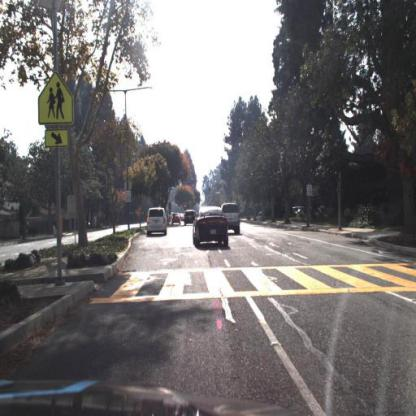car: (192, 206, 232, 247), (223, 200, 243, 234), (146, 208, 168, 236), (184, 208, 198, 230), (183, 208, 198, 227), (170, 213, 182, 229), (171, 211, 181, 227), (173, 212, 182, 224)
